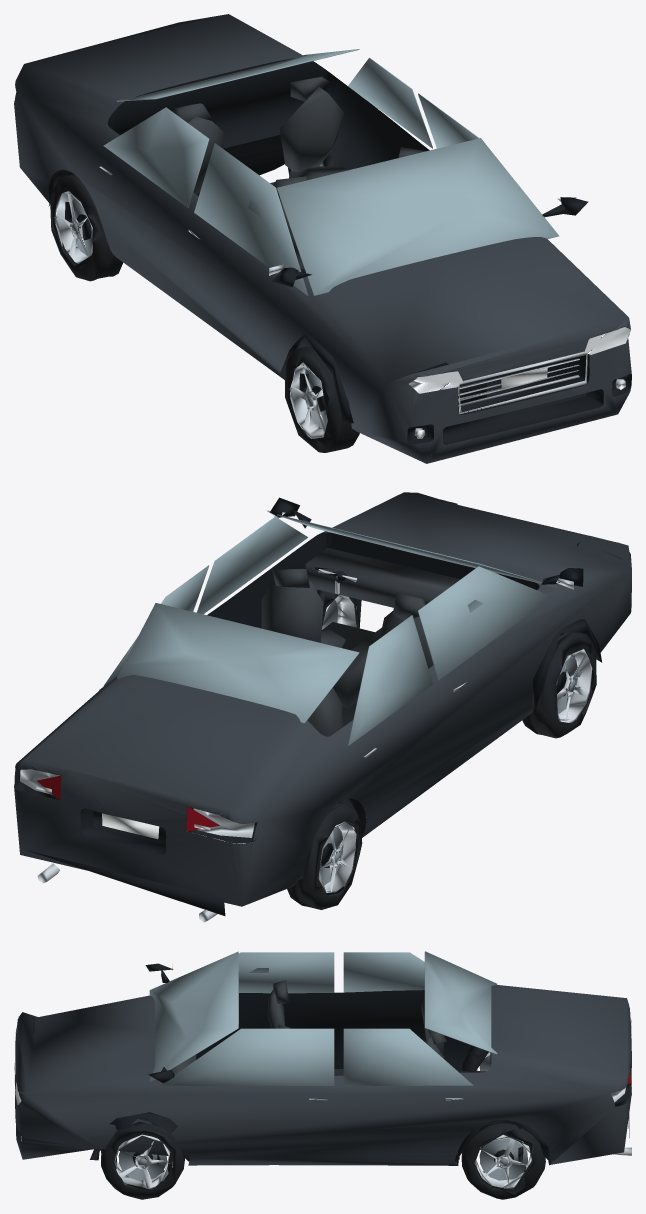
The model's file is sedan-lod2.glb.
3 views of the same model, one above another, from view 1: azimuth 30°, elevation 25°; view 2: azimuth 150°, elevation 25°; view 3: azimuth 270°, elevation 25° (orthographic). The views are drawn at different scales.
Visible parts, largest first — view 1: body_paint, body_glass.001, body_black.001, body_interior, wheelpart_rubber.001 (×2), wheelpart_chrome (×2), body_chrome, body_clearlens; view 2: body_paint, body_glass.001, body_interior, body_black.001, wheelpart_rubber.001 (×2), wheelpart_chrome (×2), body_chrome, body_white, body_redlens; view 3: body_paint, body_glass.001, body_black.001, wheelpart_rubber.001 (×3), wheelpart_chrome (×2), wheelpart_steel.001 (×2), body_interior.
Boxes of the visible parts, x1,y1,x2,y2 form: body_paint: [14, 14, 631, 463]; body_glass.001: [103, 49, 558, 295]; body_black.001: [14, 58, 631, 444]; body_interior: [173, 76, 426, 272]; wheelpart_rubber.001 (×2): [50, 174, 359, 452]; wheelpart_chrome (×2): [55, 191, 327, 438]; body_chrome: [99, 102, 624, 435]; body_clearlens: [409, 327, 630, 438]; body_paint: [14, 492, 631, 906]; body_glass.001: [103, 514, 558, 745]; body_interior: [261, 548, 459, 736]; body_black.001: [14, 497, 621, 915]; wheelpart_rubber.001 (×2): [287, 632, 596, 909]; wheelpart_chrome (×2): [318, 649, 592, 892]; body_chrome: [20, 510, 573, 922]; body_white: [102, 813, 159, 839]; body_redlens: [36, 775, 219, 831]; body_paint: [15, 985, 631, 1165]; body_glass.001: [149, 951, 497, 1085]; body_black.001: [15, 963, 631, 1165]; wheelpart_rubber.001 (×3): [101, 1045, 545, 1199]; wheelpart_chrome (×2): [114, 1134, 531, 1189]; wheelpart_steel.001 (×2): [118, 1138, 527, 1180]; body_interior: [172, 980, 485, 1149].
Size of the model in its own units: 2.16 by 1.4 by 4.83.
